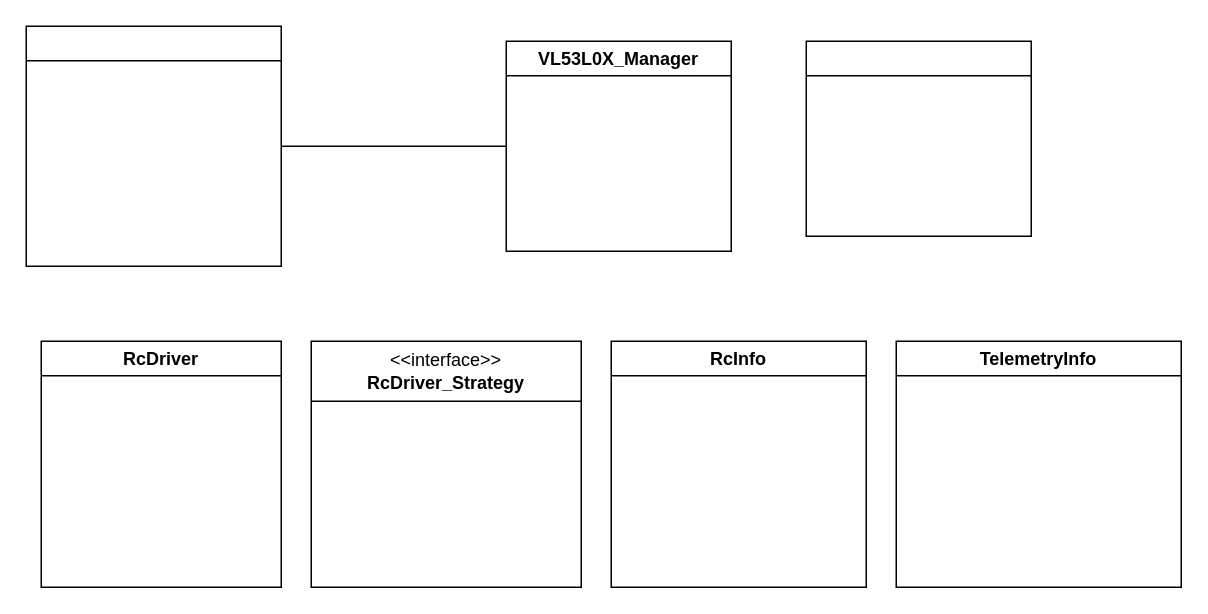
This 1208x614 diagram has some shape labels left out. The shapes that lost their labels are listed below. From the top down, each one's box as (x1, y1, x2, y2) in pixels, then its label:
(25, 25, 281, 266): MainApplication
(805, 40, 1031, 236): MPU6050_Manager
